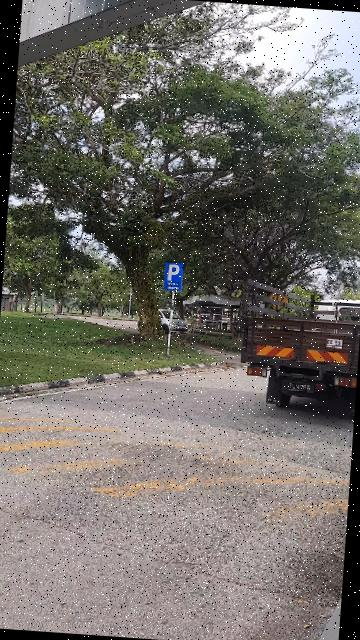License_Plate: (287, 380, 315, 393)
lorry: (235, 273, 360, 420)
